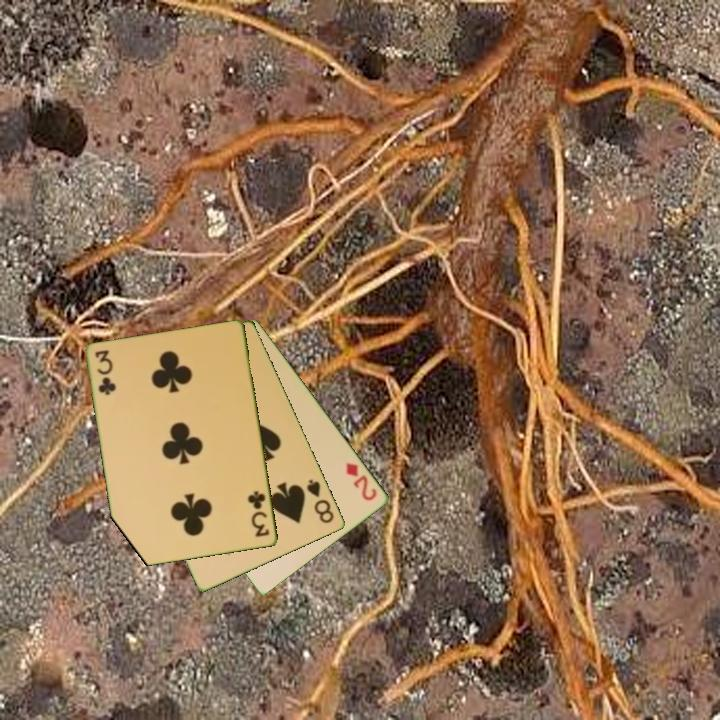2d: (343, 459, 380, 504)
3c: (245, 487, 272, 540), (92, 347, 117, 398)
8s: (303, 476, 337, 527)
